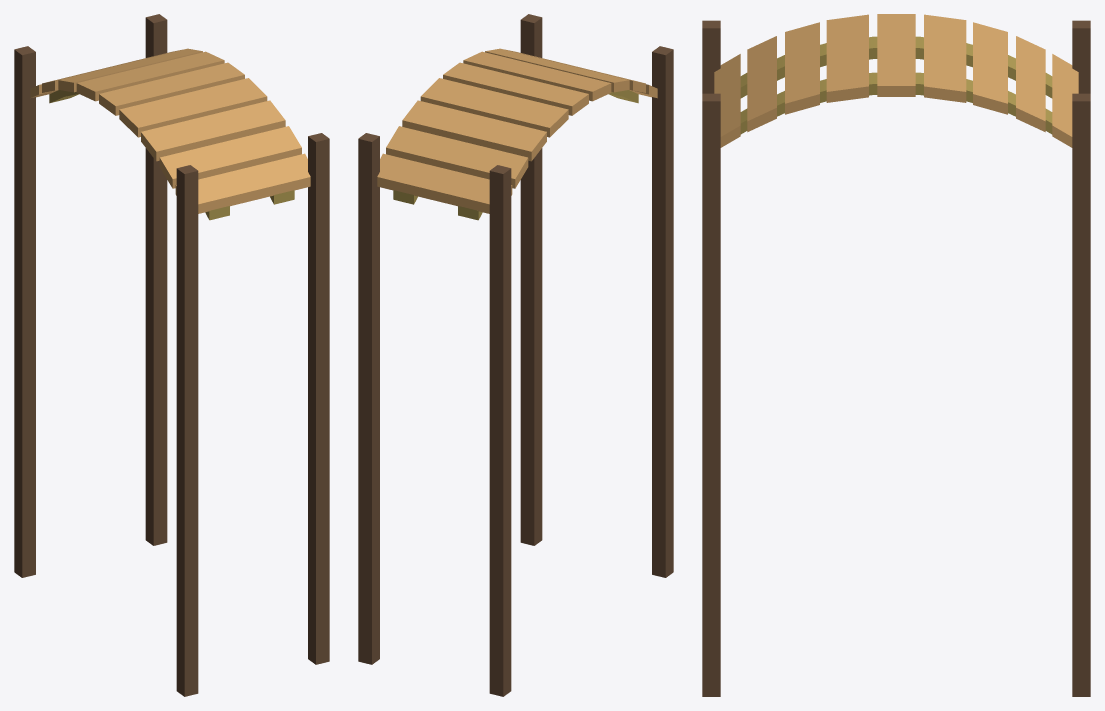
The model's file is Bridge.fbx.
3 renders of one model, left to right at view 1: azimuth 30°, elevation 25°; view 2: azimuth 150°, elevation 25°; view 3: azimuth 270°, elevation 25°, orthographic. The views are drawn at different scales.
Parts seen in each view (by area): view 1: bridge.003; view 2: bridge.003; view 3: bridge.003.
Boxes of the visible parts, x1,y1,x2,y2 form: bridge.003: (14, 14, 329, 696); bridge.003: (358, 14, 673, 696); bridge.003: (702, 14, 1090, 696).
Size of the model in its own units: 157 by 551 by 320.
